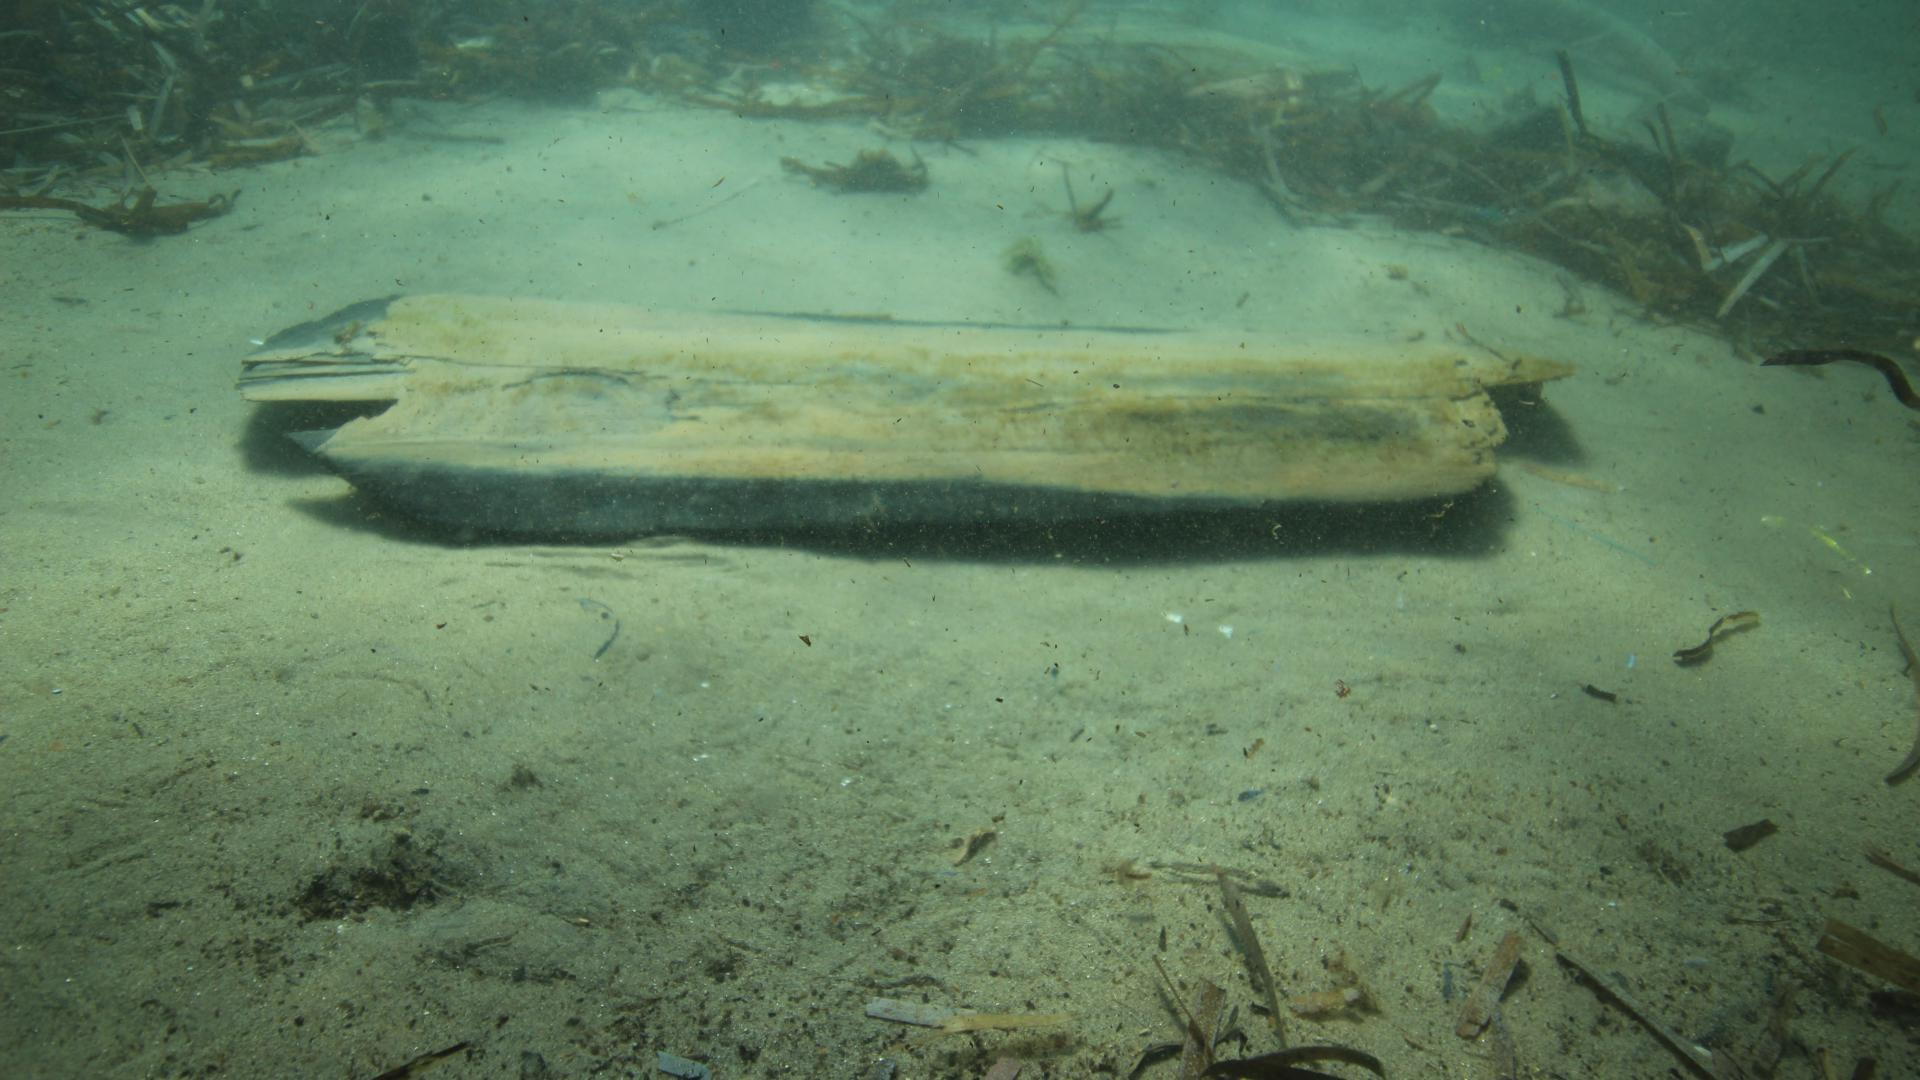wood: (239, 291, 1575, 535)
